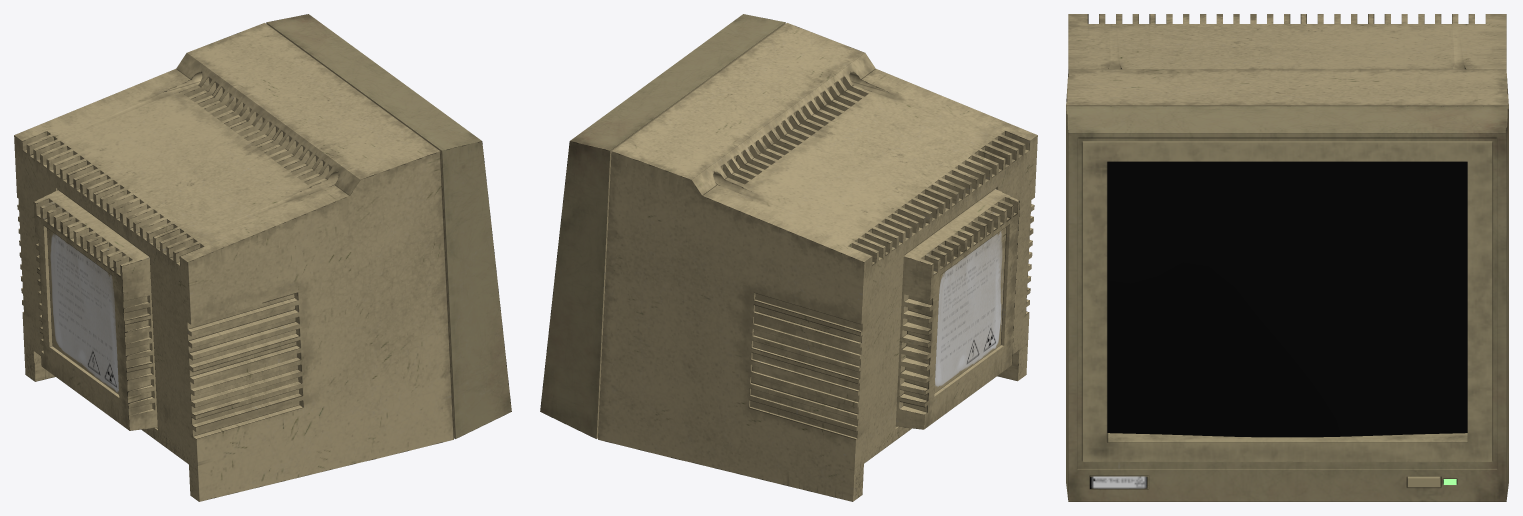
File: retro_monitor_-_ibmcommodore_style_monitor.glb
3 views of the same model, side by side, from view 1: azimuth 30°, elevation 25°; view 2: azimuth 150°, elevation 25°; view 3: azimuth 270°, elevation 25° (orthographic). The views are drawn at different scales.
Parts seen in each view (by area): view 1: Monitor_0; view 2: Monitor_0; view 3: Monitor_0.
Part boxes in pixels (x1,y1,x2,y2): Monitor_0: (14, 14, 511, 501); Monitor_0: (540, 14, 1037, 501); Monitor_0: (1066, 14, 1508, 501).
Bounding box in the file's own units: 2.7 × 2.19 × 2.35.
7 materials, 5 textured.
